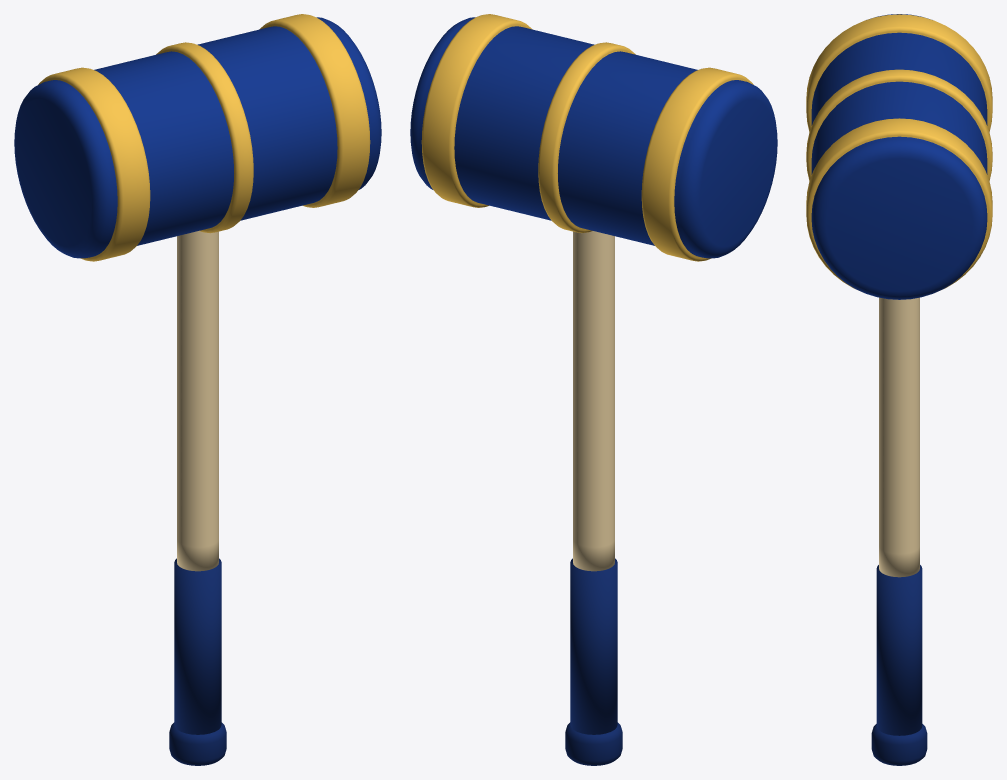
The model's file is hammer_akadaru.fbx.
3 views of the same model, side by side, from view 1: azimuth 30°, elevation 25°; view 2: azimuth 150°, elevation 25°; view 3: azimuth 270°, elevation 25° (orthographic). The views are drawn at different scales.
Visible parts, largest first — view 1: akadaru_hammer; view 2: akadaru_hammer; view 3: akadaru_hammer.
Part boxes in pixels (left/top/right/bottom): akadaru_hammer: left=14, top=14, right=381, bottom=765; akadaru_hammer: left=410, top=14, right=777, bottom=765; akadaru_hammer: left=806, top=14, right=992, bottom=765.
Bounding box in the file's own units: 1.1 × 2.58 × 0.636.
